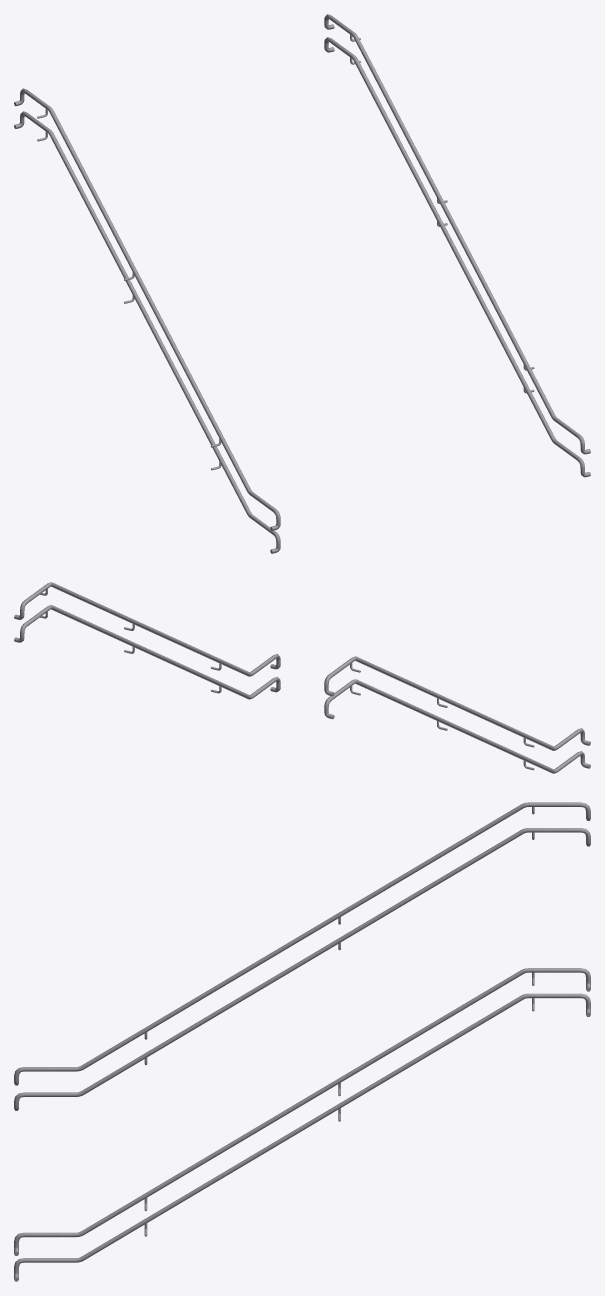
The model's file is gteki_ik_stair_n12_r173_t264_w2738_rails_wall.glb.
3 views of the same model, one above another, from view 1: azimuth 30°, elevation 25°; view 2: azimuth 150°, elevation 25°; view 3: azimuth 270°, elevation 25° (orthographic). The views are drawn at different scales.
Parts seen in each view (by area): view 1: VIS_handrails; view 2: VIS_handrails, VIS_rail_supports; view 3: VIS_handrails.
Boxes of the visible parts, x1,y1,x2,y2 form: VIS_handrails: (14,14,590,553); VIS_handrails: (14,582,590,773); VIS_rail_supports: (40,589,534,770); VIS_handrails: (14,802,590,1281).
Size of the model in its own units: 2.96 by 2.43 by 4.1.
Materials: 1 (1 with a texture image).
